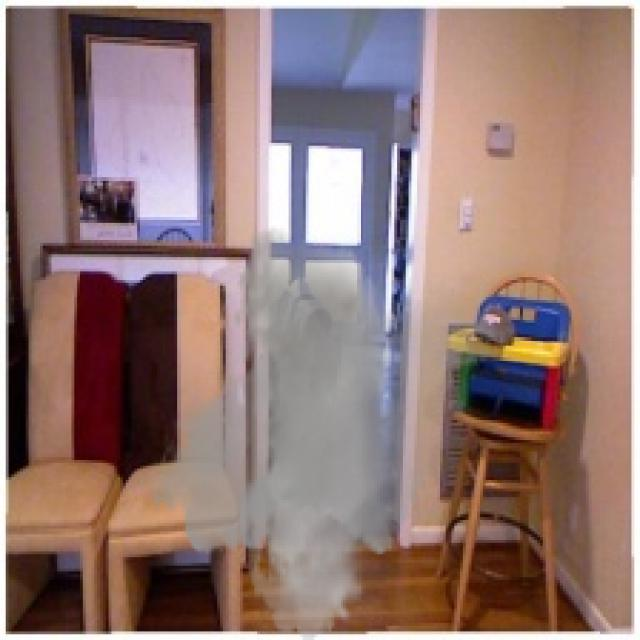smoke: (137, 226, 512, 637)
